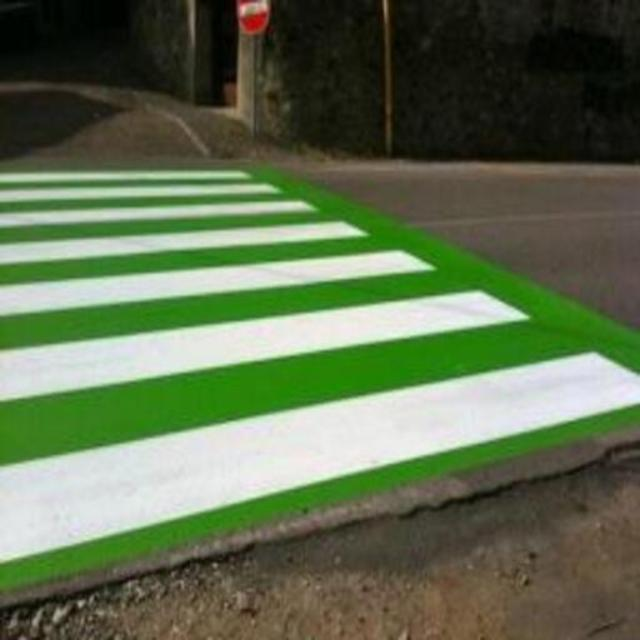sidewalk: (0, 161, 638, 564)
